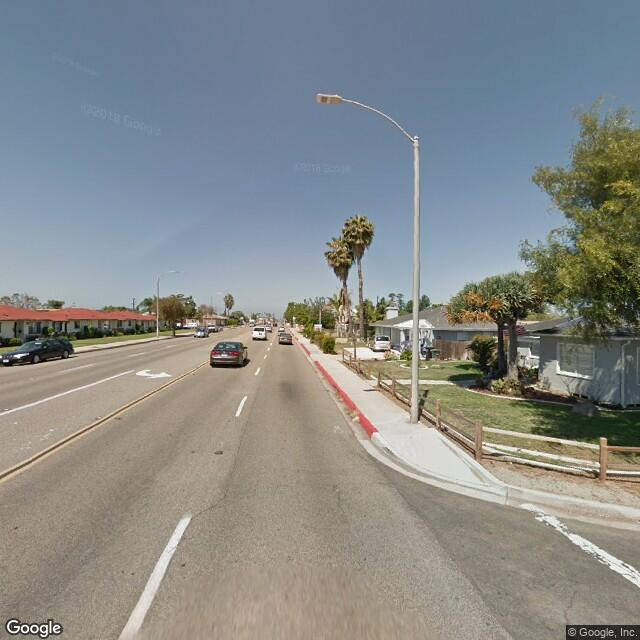litter: (352, 415, 359, 425)
